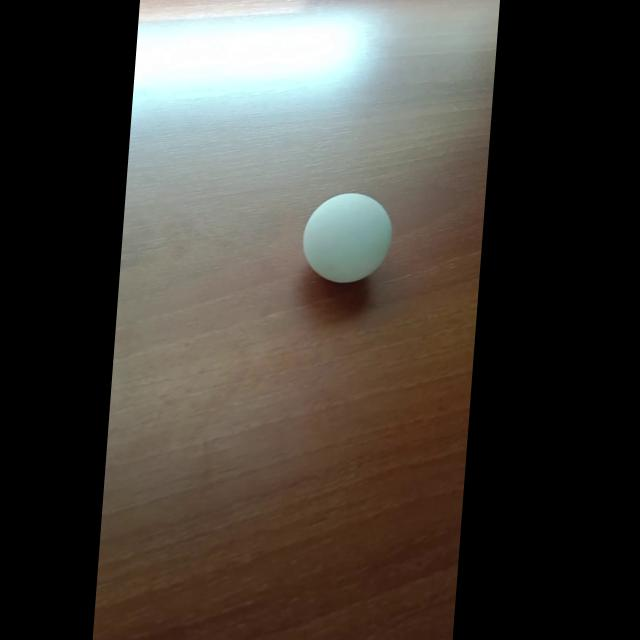white ball: (299, 192, 396, 284)
